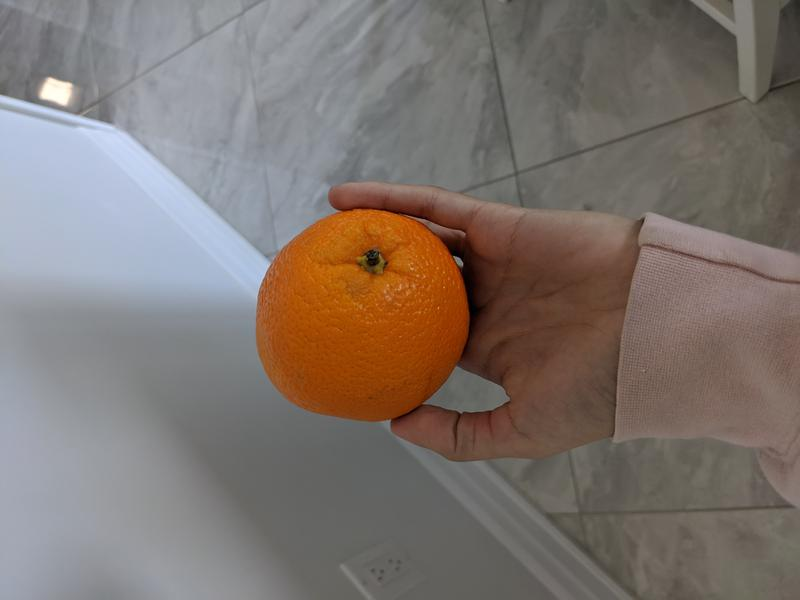orange: (255, 208, 472, 422)
